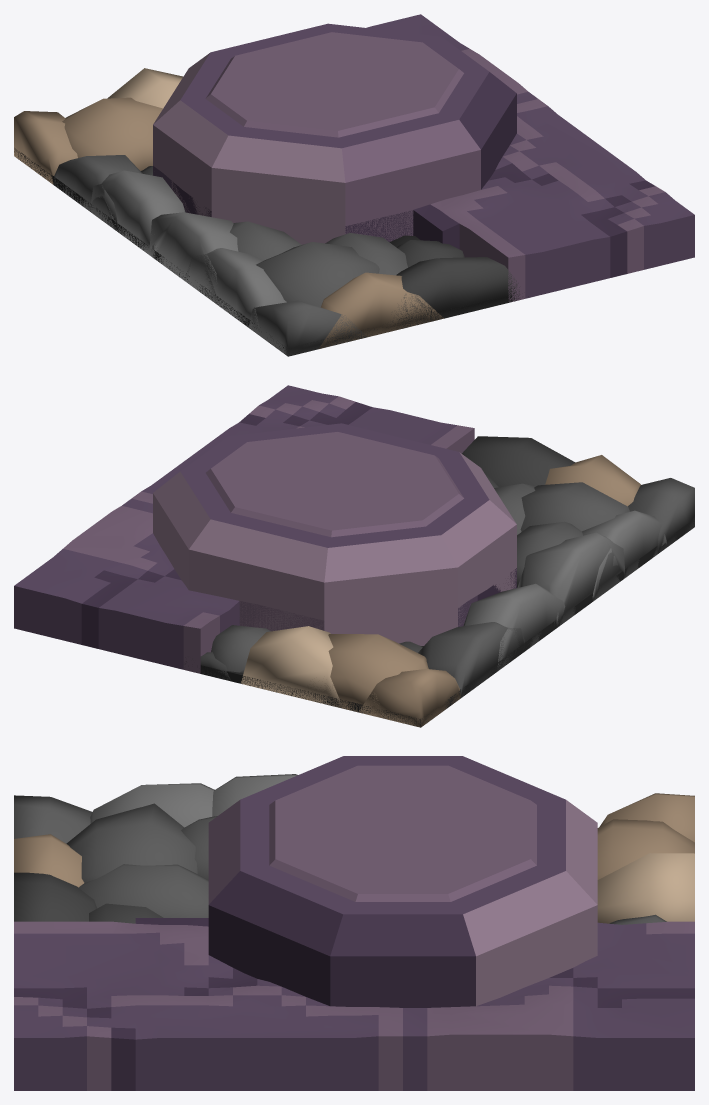
Rendered from purple_pad_l.glb.
The picture shows the model from 3 angles, top to bottom: view 1: azimuth 30°, elevation 25°; view 2: azimuth 150°, elevation 25°; view 3: azimuth 270°, elevation 25°; orthographic projection. The views are drawn at different scales.
Visible parts, largest first — view 1: purple_pad_l_pad, purple_pad_l_floor, purple_pad_l_pad_panel, purple_pad_l_rocks_19, purple_pad_l_rocks_4, purple_pad_l_rocks_11, purple_pad_l_rocks_10, purple_pad_l_rocks_0, purple_pad_l_rocks_1, purple_pad_l_rocks_14, purple_pad_l_rocks_2, purple_pad_l_rocks_7 (+6 smaller); view 2: purple_pad_l_pad, purple_pad_l_floor, purple_pad_l_pad_panel, purple_pad_l_rocks_3, purple_pad_l_rocks_1, purple_pad_l_rocks_11, purple_pad_l_rocks_9, purple_pad_l_rocks_2, purple_pad_l_rocks_7, purple_pad_l_rocks_19, purple_pad_l_rocks_10, purple_pad_l_rocks_base (+6 smaller); view 3: purple_pad_l_floor, purple_pad_l_pad, purple_pad_l_pad_panel, purple_pad_l_rocks_10, purple_pad_l_rocks_3, purple_pad_l_rocks_5, purple_pad_l_rocks_11, purple_pad_l_rocks_19, purple_pad_l_rocks_0, purple_pad_l_rocks_14, purple_pad_l_rocks_4, purple_pad_l_rocks_7 (+3 smaller).
Boxes of the visible parts, x1,y1,x2,y2 form: purple_pad_l_pad: (153, 23, 516, 244); purple_pad_l_floor: (153, 14, 694, 301); purple_pad_l_pad_panel: (205, 32, 463, 137); purple_pad_l_rocks_19: (392, 257, 528, 329); purple_pad_l_rocks_4: (318, 272, 443, 349); purple_pad_l_rocks_11: (62, 97, 162, 170); purple_pad_l_rocks_10: (256, 242, 379, 307); purple_pad_l_rocks_0: (185, 248, 286, 332); purple_pad_l_rocks_1: (149, 212, 238, 304); purple_pad_l_rocks_14: (249, 300, 366, 356); purple_pad_l_rocks_2: (91, 170, 185, 258); purple_pad_l_rocks_7: (14, 111, 77, 184); purple_pad_l_pad: (153, 423, 516, 645); purple_pad_l_floor: (14, 385, 516, 673); purple_pad_l_pad_panel: (206, 432, 463, 537); purple_pad_l_rocks_3: (241, 626, 342, 708); purple_pad_l_rocks_1: (517, 532, 624, 626); purple_pad_l_rocks_11: (301, 634, 428, 718); purple_pad_l_rocks_9: (418, 622, 524, 698); purple_pad_l_rocks_2: (463, 583, 565, 670); purple_pad_l_rocks_7: (358, 669, 460, 727); purple_pad_l_rocks_19: (462, 436, 575, 487); purple_pad_l_rocks_10: (520, 482, 629, 531); purple_pad_l_rocks_base: (200, 519, 694, 727); purple_pad_l_floor: (14, 918, 694, 1090); purple_pad_l_pad: (208, 756, 597, 1007); purple_pad_l_pad_panel: (269, 765, 536, 901); purple_pad_l_rocks_10: (66, 803, 197, 882); purple_pad_l_rocks_3: (597, 853, 694, 923); purple_pad_l_rocks_5: (79, 864, 208, 917); purple_pad_l_rocks_11: (597, 819, 694, 879); purple_pad_l_rocks_19: (14, 872, 96, 921); purple_pad_l_rocks_0: (90, 783, 214, 827); purple_pad_l_rocks_14: (14, 795, 92, 843); purple_pad_l_rocks_4: (14, 834, 84, 887); purple_pad_l_rocks_7: (599, 793, 694, 842).
Size of the model in its own units: 24 by 6.25 by 28.
